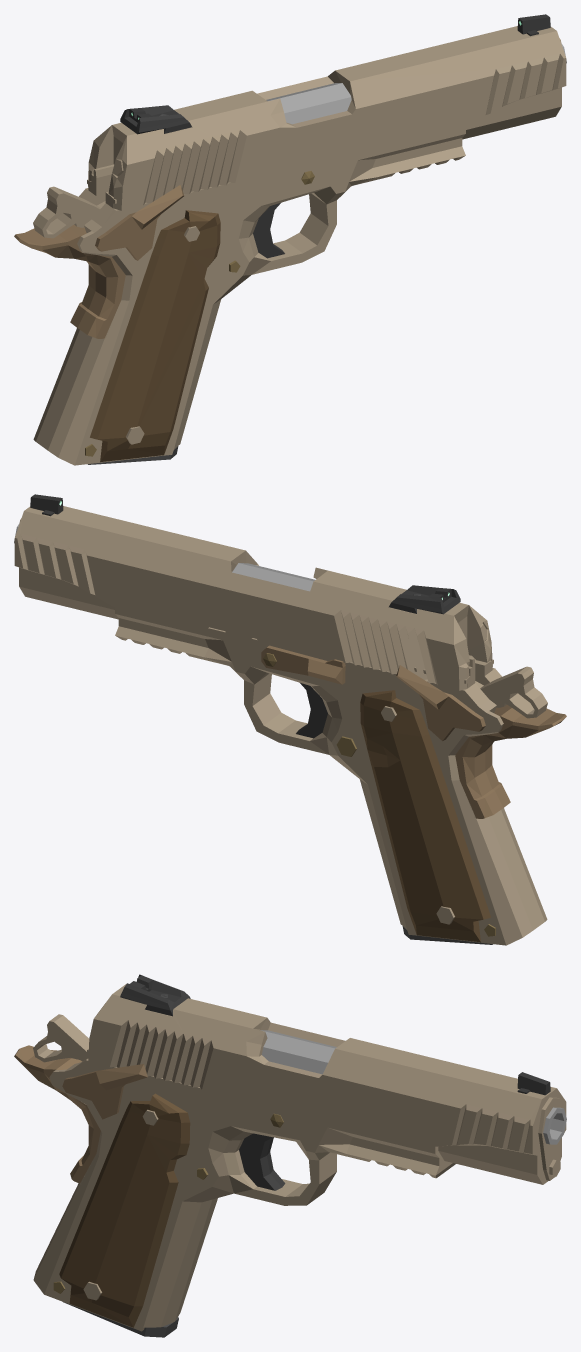
The model's file is SOP12.fbx.
3 renders of one model, top to bottom at view 1: azimuth 30°, elevation 25°; view 2: azimuth 150°, elevation 25°; view 3: azimuth 330°, elevation 25°, orthographic.
Visible parts, largest first — view 1: Frame, Slide, Safety, Barrel, Hammer, Trigger; view 2: Frame, Slide, Safety, Hammer, Slide_lock, Barrel, Trigger; view 3: Frame, Slide, Barrel, Safety, Hammer, Trigger, Magazine.
Boxes of the visible parts, bbox=[...] form: Frame: bbox=[14, 127, 465, 465]; Slide: bbox=[88, 14, 566, 210]; Safety: bbox=[95, 185, 184, 260]; Barrel: bbox=[266, 43, 566, 124]; Hammer: bbox=[33, 186, 105, 238]; Trigger: bbox=[253, 203, 284, 258]; Frame: bbox=[115, 607, 566, 945]; Slide: bbox=[14, 494, 492, 690]; Safety: bbox=[396, 665, 485, 740]; Hammer: bbox=[475, 666, 547, 718]; Slide_lock: bbox=[261, 645, 345, 684]; Barrel: bbox=[14, 523, 315, 591]; Trigger: bbox=[296, 683, 327, 738]; Frame: bbox=[14, 1045, 455, 1331]; Slide: bbox=[88, 974, 566, 1184]; Barrel: bbox=[260, 1030, 566, 1144]; Safety: bbox=[62, 1064, 147, 1119]; Hammer: bbox=[33, 1014, 89, 1062]; Trigger: bbox=[239, 1133, 285, 1190]; Magazine: bbox=[63, 1302, 178, 1337].
Bounding box in the file's own units: 0.059 × 0.4096 × 0.2509.
